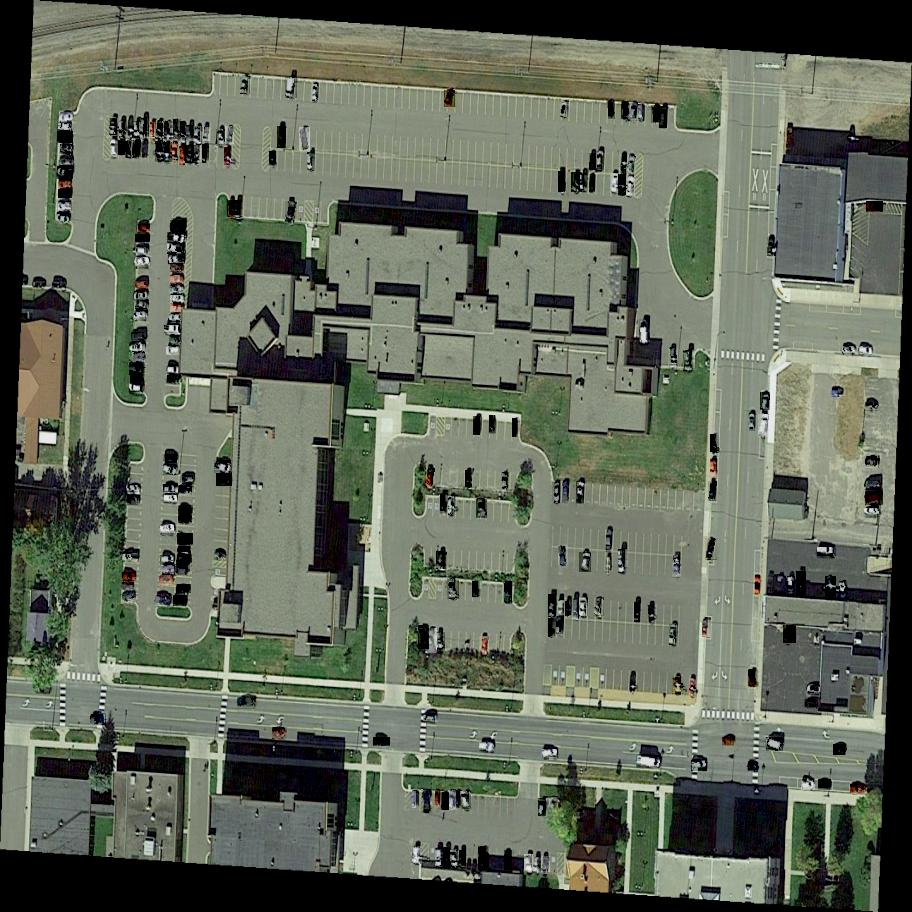large-vehicle: (636, 755, 661, 769), (767, 737, 785, 752), (213, 460, 232, 474), (448, 578, 460, 600), (683, 350, 695, 372), (436, 551, 449, 571), (639, 319, 649, 345), (690, 760, 707, 773), (238, 698, 256, 710), (434, 633, 445, 650), (480, 637, 490, 655), (542, 749, 558, 760), (660, 106, 668, 128), (474, 416, 482, 435), (130, 343, 145, 353), (670, 347, 678, 365), (166, 366, 180, 376), (817, 547, 834, 555), (787, 577, 795, 593), (505, 582, 511, 603), (167, 347, 180, 356), (513, 418, 519, 437), (473, 581, 480, 597), (131, 333, 145, 341), (480, 742, 493, 750), (165, 325, 179, 332), (424, 714, 436, 722)
small-vehicle: (425, 628, 439, 654), (864, 492, 885, 507), (546, 797, 561, 818), (417, 625, 429, 650), (300, 127, 312, 151), (758, 414, 770, 438), (285, 201, 298, 223), (705, 538, 717, 561), (571, 172, 584, 193), (580, 552, 593, 573), (285, 78, 298, 99), (775, 574, 788, 595), (444, 89, 458, 108), (421, 790, 432, 813), (824, 577, 836, 598), (175, 554, 193, 568), (796, 571, 806, 596), (783, 625, 796, 644), (168, 232, 187, 245), (625, 175, 636, 197), (241, 75, 253, 95), (216, 473, 233, 487), (558, 545, 569, 566), (154, 141, 165, 162), (479, 847, 489, 870), (625, 156, 637, 175), (154, 594, 173, 606), (864, 455, 881, 468), (57, 131, 74, 144), (130, 350, 147, 363), (277, 126, 287, 148), (476, 498, 487, 518), (156, 120, 167, 140), (628, 102, 639, 122), (168, 253, 186, 265), (167, 242, 185, 254), (169, 220, 187, 232), (128, 363, 146, 375), (162, 142, 172, 163), (121, 590, 136, 604), (272, 726, 287, 740), (621, 101, 632, 120), (548, 594, 557, 617), (866, 201, 883, 213), (425, 468, 435, 488), (610, 174, 620, 194), (538, 799, 549, 817), (412, 847, 423, 865), (461, 791, 472, 809), (670, 624, 679, 646), (576, 482, 585, 504), (216, 129, 227, 147), (618, 174, 627, 196), (672, 677, 683, 695), (619, 549, 627, 573), (57, 167, 73, 179), (91, 715, 107, 727), (177, 534, 193, 546), (761, 392, 771, 411), (595, 597, 605, 616), (185, 145, 195, 164), (227, 199, 237, 218), (863, 481, 882, 491), (225, 126, 235, 145), (709, 481, 718, 502), (703, 617, 712, 638), (447, 790, 456, 811), (525, 854, 535, 872), (450, 850, 460, 868), (580, 597, 589, 617), (192, 145, 202, 163), (170, 142, 180, 160), (767, 237, 776, 257), (748, 669, 758, 687), (652, 106, 662, 124), (170, 285, 185, 297), (606, 529, 614, 551), (56, 213, 72, 224), (134, 258, 150, 269), (176, 546, 192, 557), (435, 848, 444, 867), (441, 792, 450, 811), (710, 434, 719, 453), (540, 856, 550, 873), (818, 779, 832, 791), (673, 556, 681, 577), (160, 555, 175, 566), (172, 596, 187, 607), (747, 761, 762, 772), (176, 584, 191, 595), (159, 575, 174, 586), (141, 141, 150, 159), (133, 140, 142, 158), (126, 141, 135, 159), (110, 118, 119, 136), (110, 138, 118, 158), (504, 850, 512, 870), (834, 744, 847, 756), (801, 780, 815, 791), (59, 144, 73, 155), (163, 464, 177, 475), (135, 300, 149, 311), (195, 126, 204, 143), (689, 678, 697, 697), (160, 525, 175, 535), (559, 171, 566, 192), (444, 847, 451, 868), (501, 473, 510, 489), (118, 140, 127, 156), (178, 505, 194, 514), (58, 202, 72, 212), (141, 119, 148, 139), (59, 113, 73, 123), (123, 573, 137, 583), (129, 383, 143, 393), (608, 100, 615, 120), (176, 566, 190, 576), (179, 485, 193, 495), (858, 347, 872, 357), (170, 294, 184, 304), (455, 790, 463, 807), (489, 416, 497, 433), (373, 737, 390, 745), (165, 121, 172, 140), (634, 603, 641, 622), (127, 496, 140, 506), (187, 125, 195, 141), (573, 599, 579, 620), (563, 481, 569, 502), (58, 189, 72, 198), (164, 454, 178, 463), (235, 200, 242, 218), (840, 582, 847, 600), (850, 785, 864, 794), (648, 605, 655, 623), (831, 388, 846, 396), (135, 234, 150, 242), (162, 566, 174, 576), (864, 508, 879, 516), (173, 120, 180, 137), (589, 175, 596, 192), (589, 153, 596, 170), (59, 179, 72, 188), (179, 514, 192, 523), (554, 483, 560, 502), (534, 857, 541, 873), (215, 549, 225, 560), (749, 413, 755, 431), (180, 146, 186, 164), (203, 127, 210, 142), (123, 554, 138, 561), (864, 403, 879, 410), (805, 699, 818, 707), (307, 153, 313, 170), (134, 292, 148, 299), (168, 315, 182, 322), (130, 375, 144, 382), (557, 601, 564, 615), (459, 850, 465, 866), (61, 158, 73, 166), (169, 336, 181, 344), (808, 685, 820, 693), (203, 144, 208, 163), (164, 495, 177, 502), (842, 347, 855, 354), (755, 576, 760, 594), (167, 375, 182, 381), (561, 102, 567, 117), (59, 123, 70, 131), (182, 476, 193, 484), (171, 305, 182, 313), (557, 617, 562, 634), (711, 458, 716, 475), (138, 224, 150, 231), (163, 485, 175, 492), (269, 152, 275, 165), (134, 312, 145, 319), (723, 738, 734, 745), (135, 122, 140, 137), (119, 122, 124, 137), (549, 619, 553, 637), (435, 791, 440, 805), (170, 276, 180, 283), (171, 264, 181, 271), (441, 494, 445, 511), (623, 153, 627, 170), (598, 152, 602, 169), (127, 485, 138, 491), (412, 792, 416, 808), (466, 471, 470, 487), (225, 148, 229, 164), (313, 85, 317, 100), (136, 248, 146, 254), (135, 282, 145, 288), (151, 122, 155, 136), (180, 122, 184, 136), (449, 496, 452, 514), (581, 174, 584, 190), (566, 601, 569, 616), (639, 105, 642, 118)
